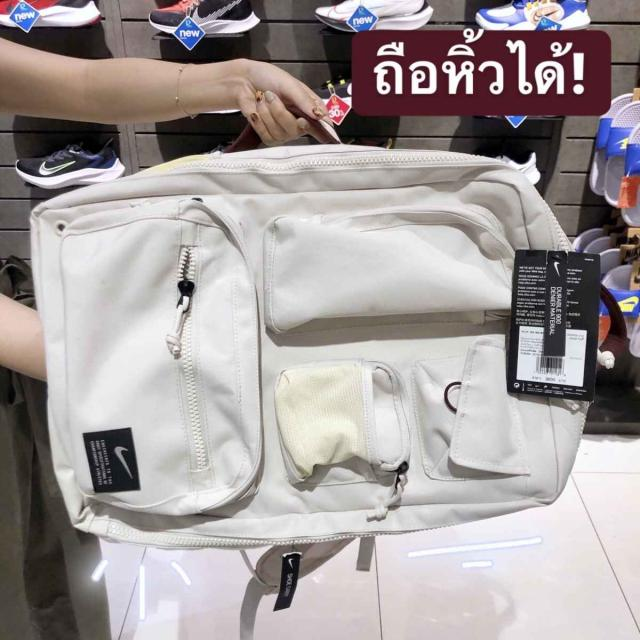Handbag: (28, 144, 589, 550)
